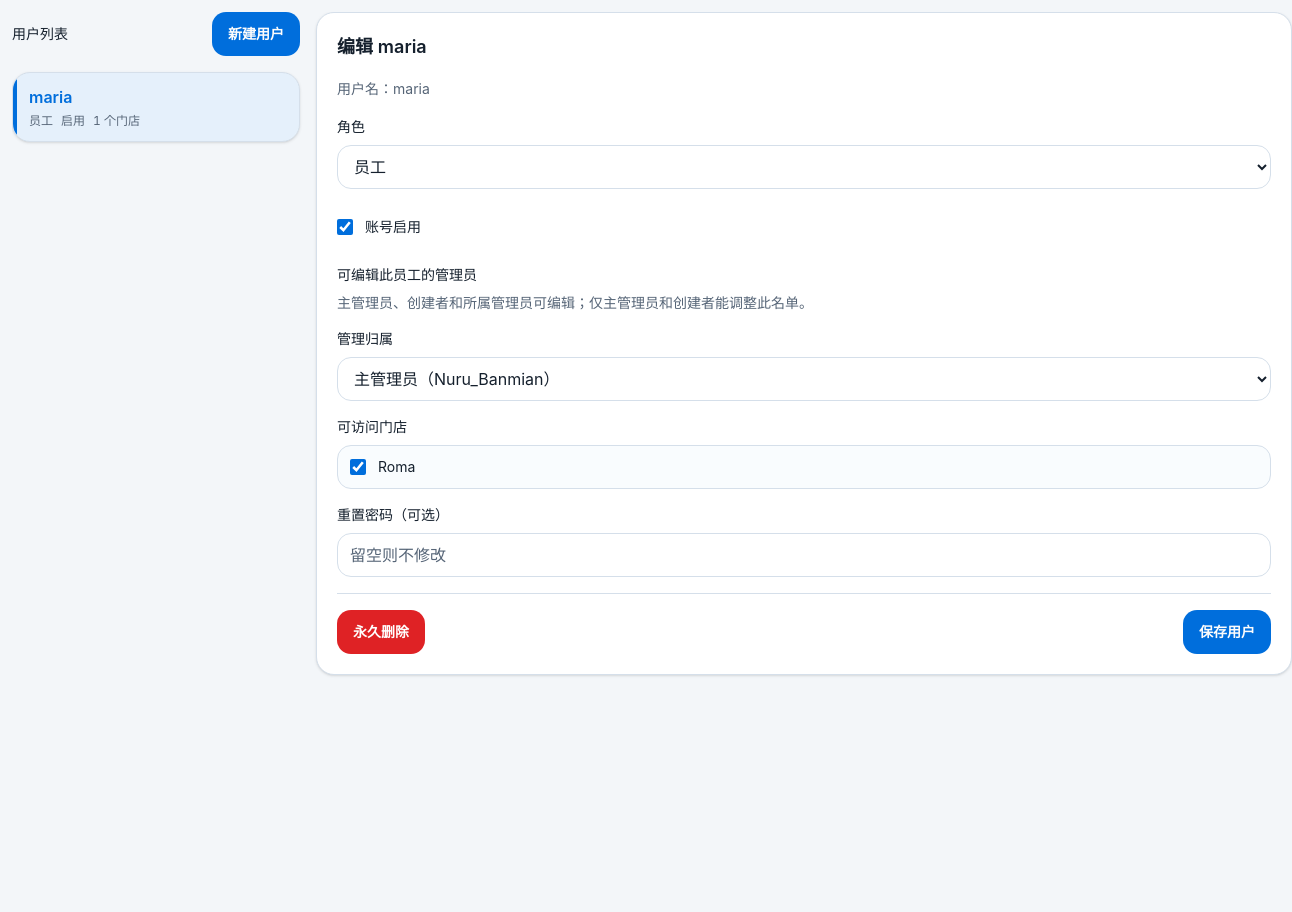
Test: selects a newly created user
Check: the heading "编辑 maria" is shown, box [337,36,427,57]
Click the button "新建用户": (256, 34) [212,12,300,56]
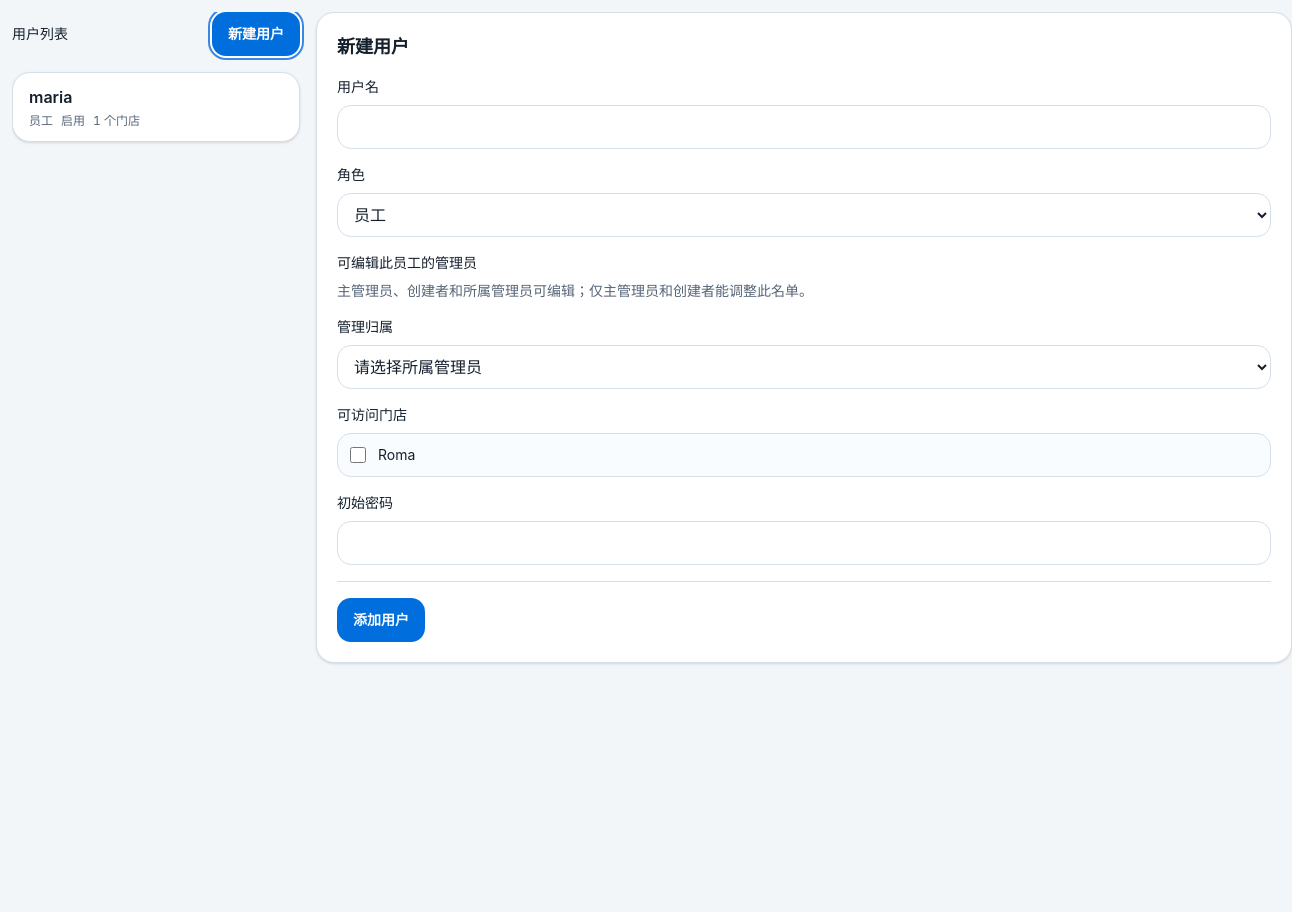
In the field labelled "用户名": (804, 127) [337,105,1271,149], type "new-operator"
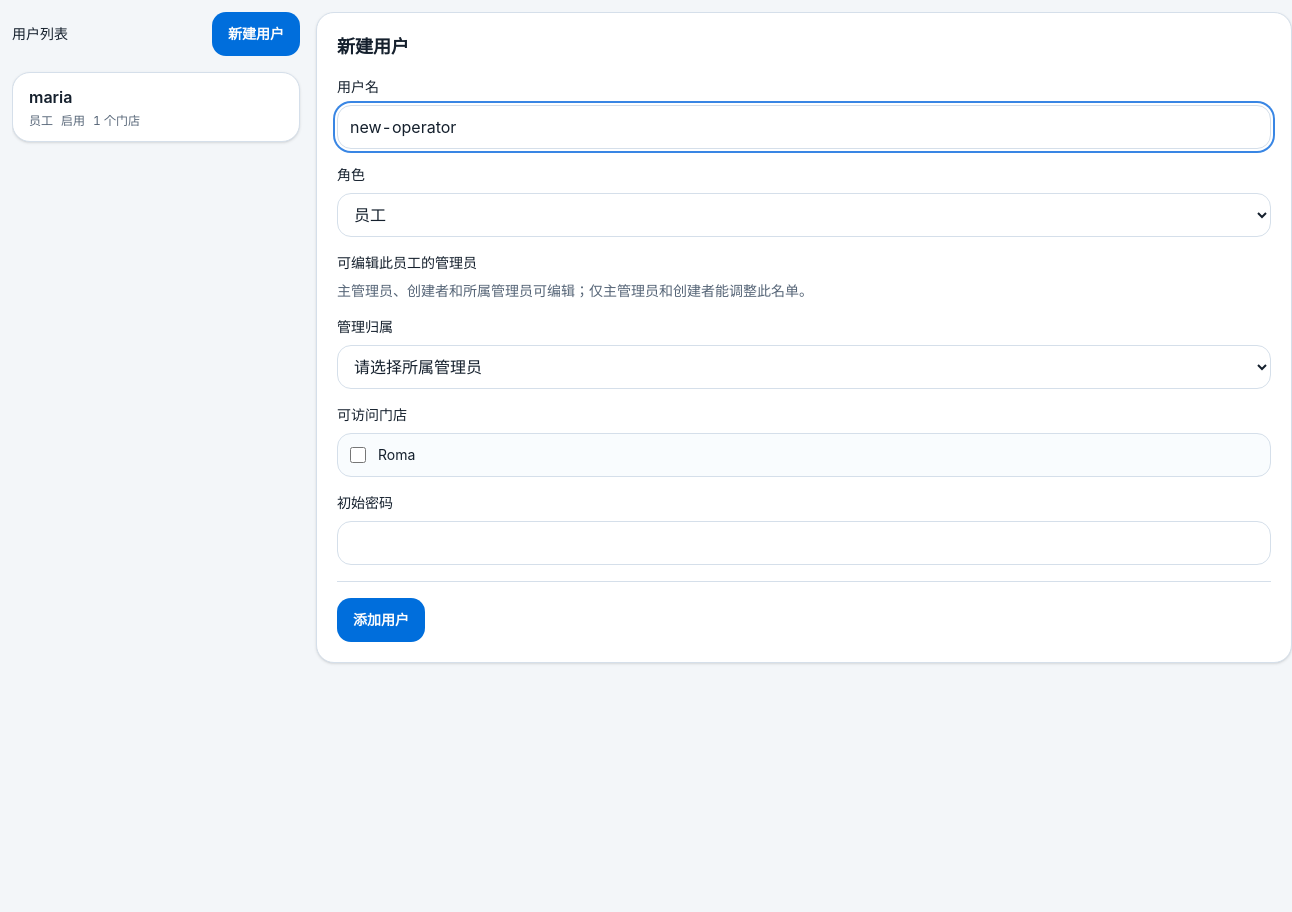
Select "主管理员（Nuru_Banmian）" in the dropdown labelled "管理归属": (804, 367) [337,345,1271,389]
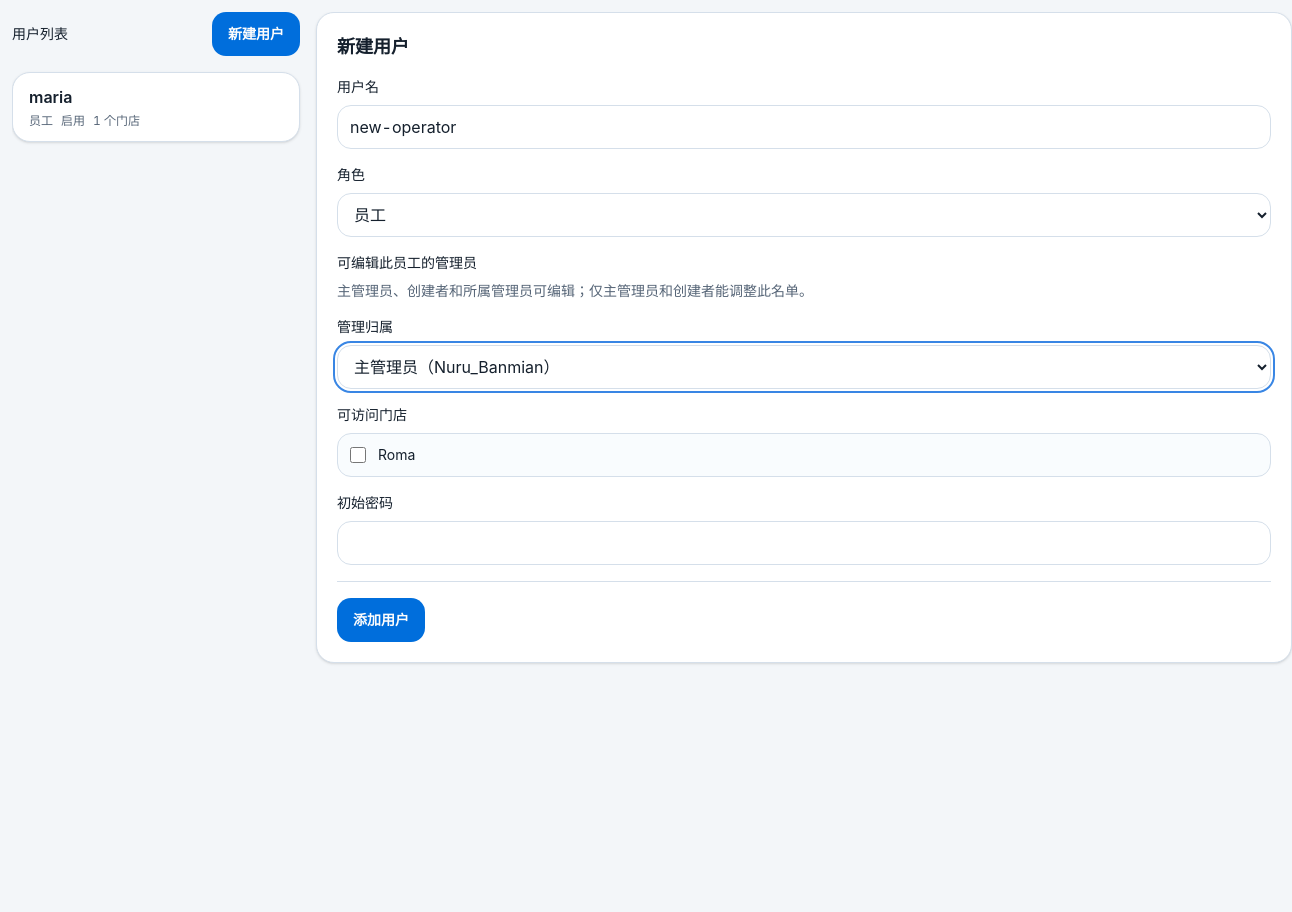
In the password field labelled "初始密码": (804, 543) [337,521,1271,565], type "operator123"
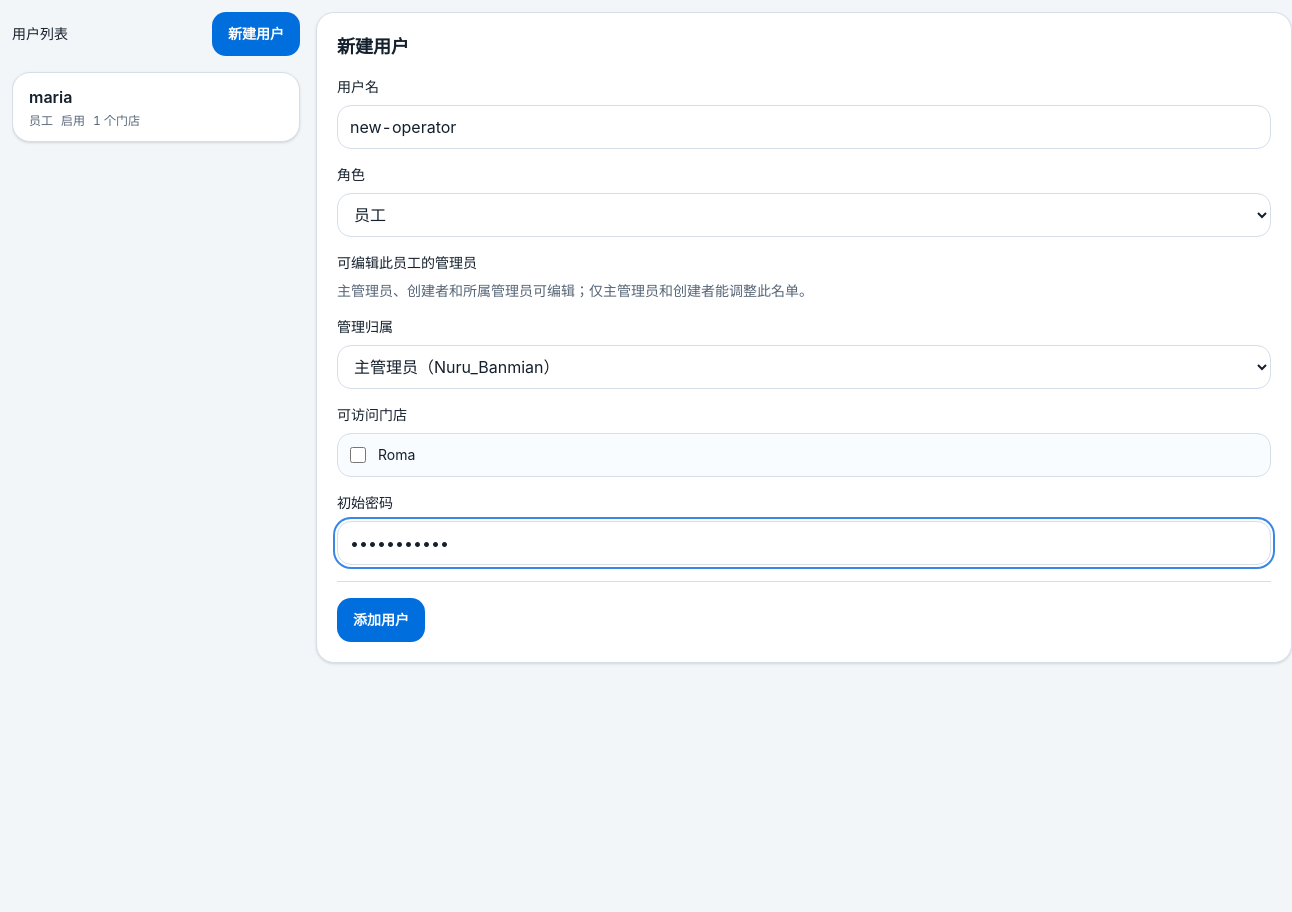
Click the checkbox labelled "Roma": (358, 455) [350,447,366,463]
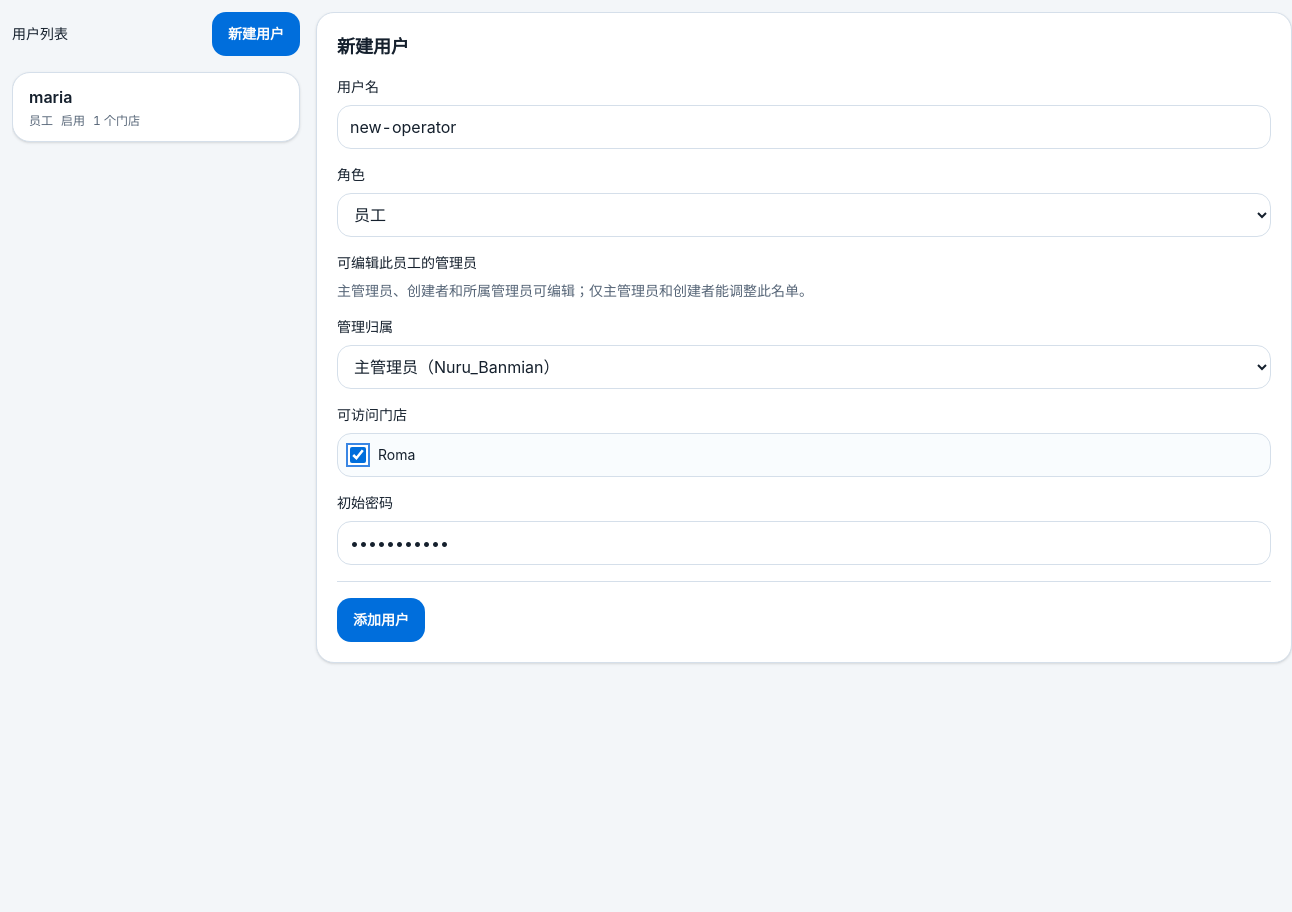
Click the button "添加用户": (381, 620) [337,598,425,642]
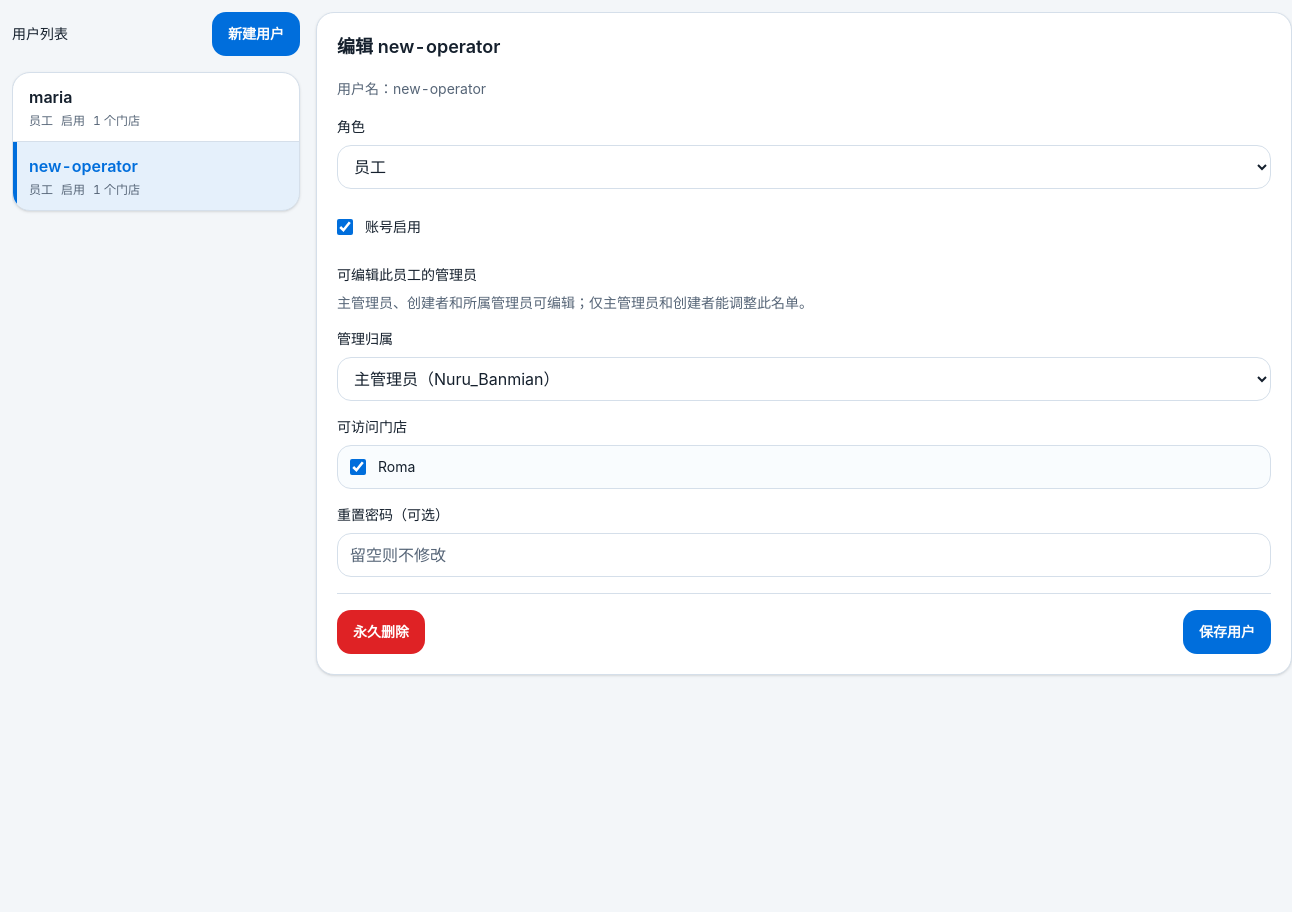
Check: the heading "编辑 new-operator" is shown, box [337,36,500,57]
